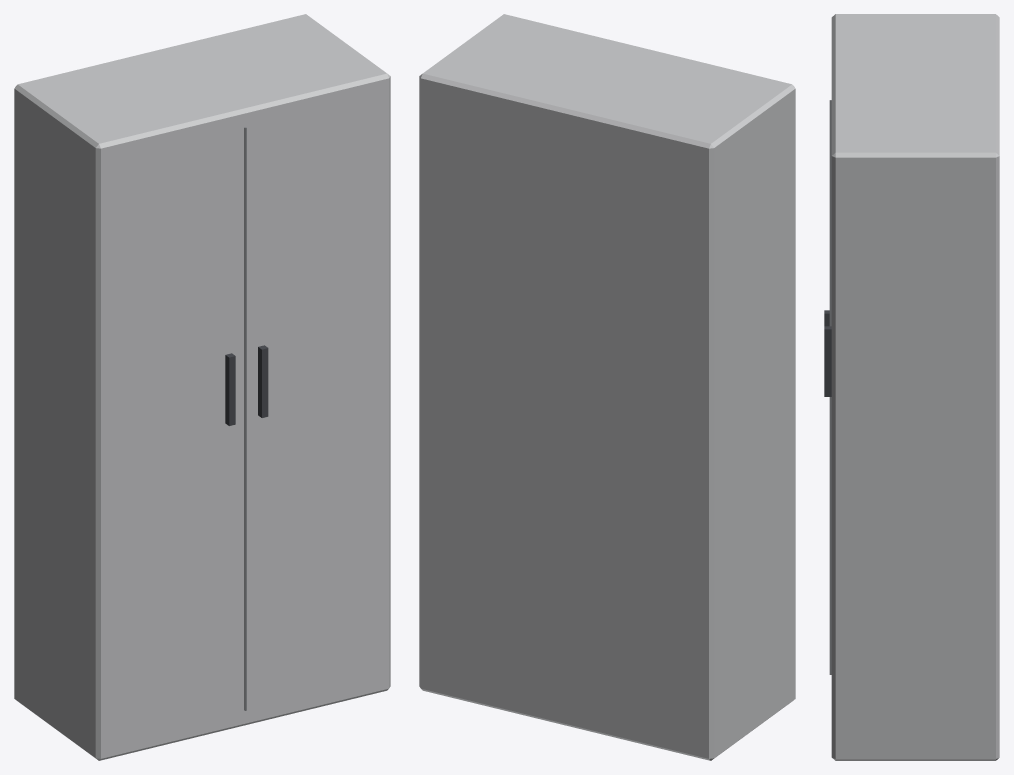
The model's file is cabinet_file.glb.
3 renders of one model, left to right at view 1: azimuth 30°, elevation 25°; view 2: azimuth 150°, elevation 25°; view 3: azimuth 270°, elevation 25°, orthographic.
Parts seen in each view (by area): view 1: cabinet_file; view 2: cabinet_file; view 3: cabinet_file.
Part boxes in pixels (bbox=[...]): cabinet_file: bbox=[14, 14, 390, 760]; cabinet_file: bbox=[419, 14, 795, 760]; cabinet_file: bbox=[824, 14, 999, 760].
Bounding box in the file's own units: 0.9 × 1.8 × 0.47.
1 material, 1 textured.
